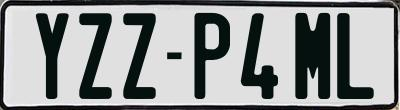4: (239, 10, 276, 96)
L: (336, 12, 377, 102)
M: (292, 13, 328, 103)
P: (192, 13, 231, 101)
Y: (36, 13, 73, 100)
Z: (79, 12, 118, 100), (123, 11, 161, 97)
